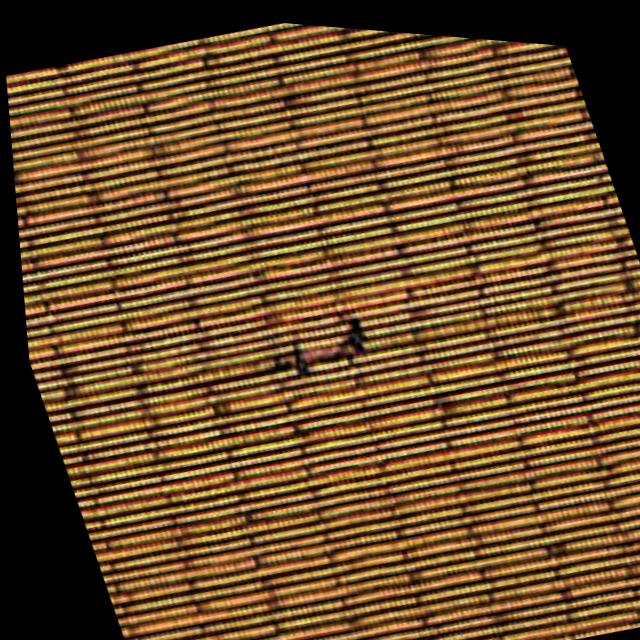Stitch: (212, 273, 404, 427)
